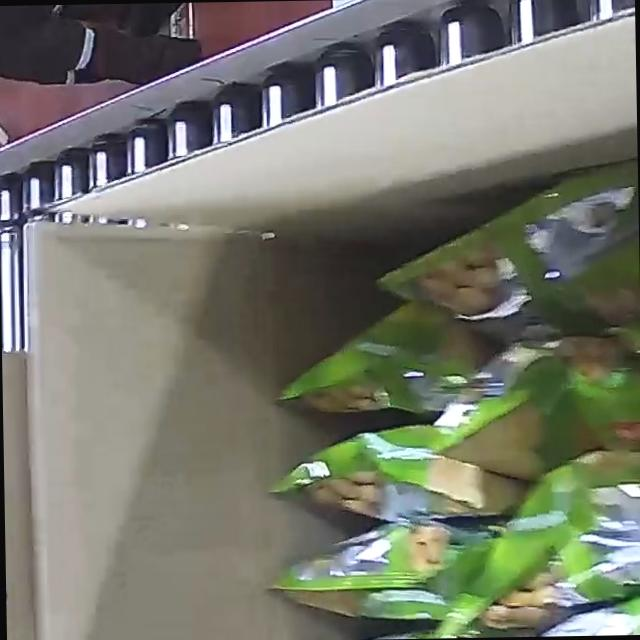yogurt: (252, 155, 640, 640)
